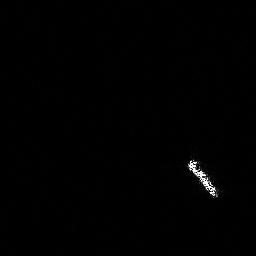ship: (184, 156, 222, 201)
